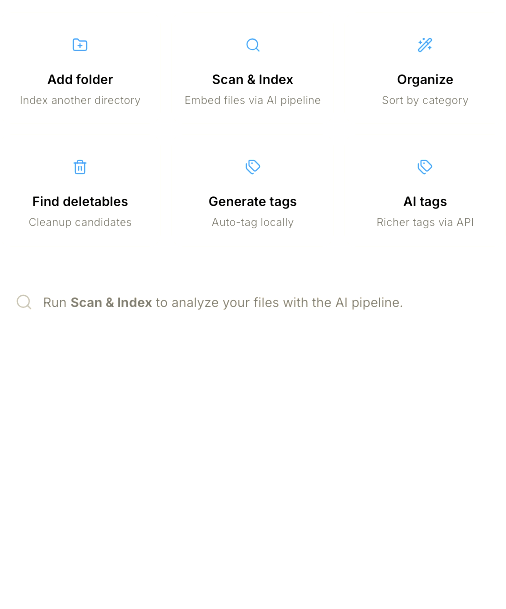
Test: ScanView enhanced progress & debug panel › accumulates debug log messages from polls
Click the button "Scan & Index Embed files via AI pipeline" at (253, 68), box top-left (172, 12), bottom-right (334, 124)
Wait 3300 ms
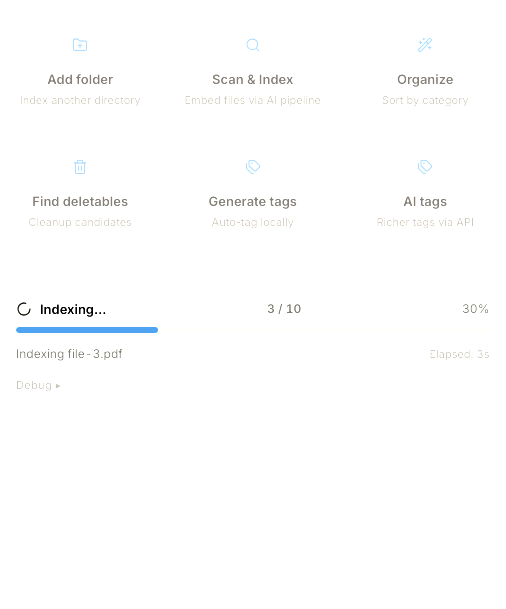
Note: Expand debug panel
Click the text "Debug ▸" at (39, 385), box top-left (16, 378), bottom-right (61, 392)
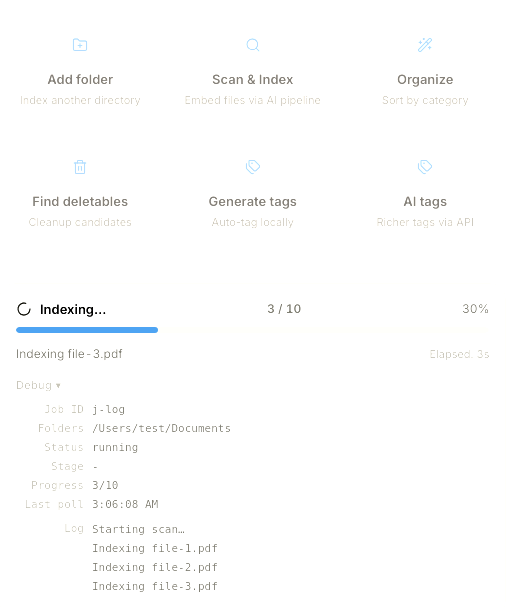
Now the text "Indexing file-1.pdf" is shown, box top-left (92, 542), bottom-right (218, 555)
Now the text "Indexing file-2.pdf" is shown, box top-left (92, 561), bottom-right (218, 574)
